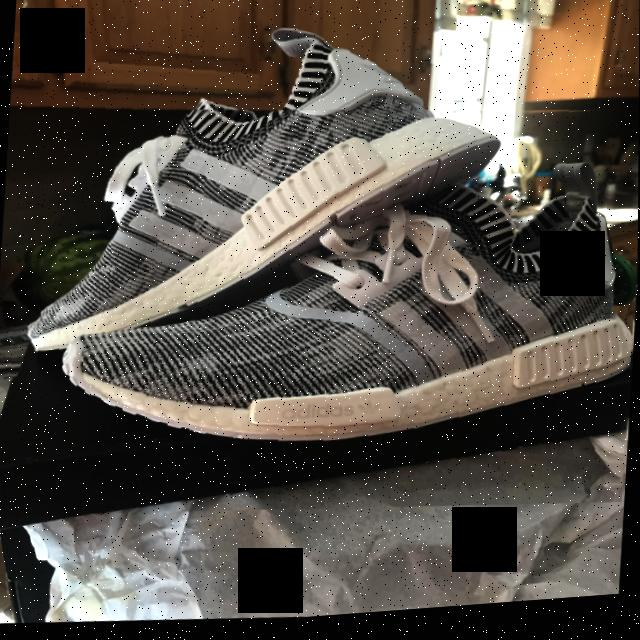shoe: (29, 77, 639, 546), (0, 0, 459, 400)
